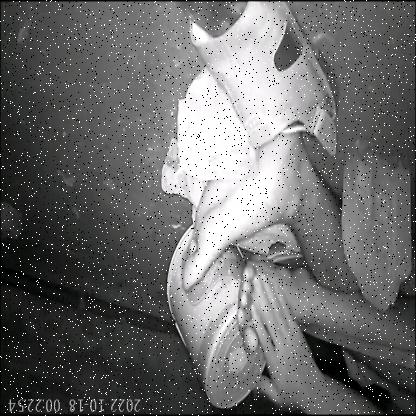hand: (245, 269, 381, 416)
leg: (175, 124, 350, 298), (235, 246, 416, 360)
